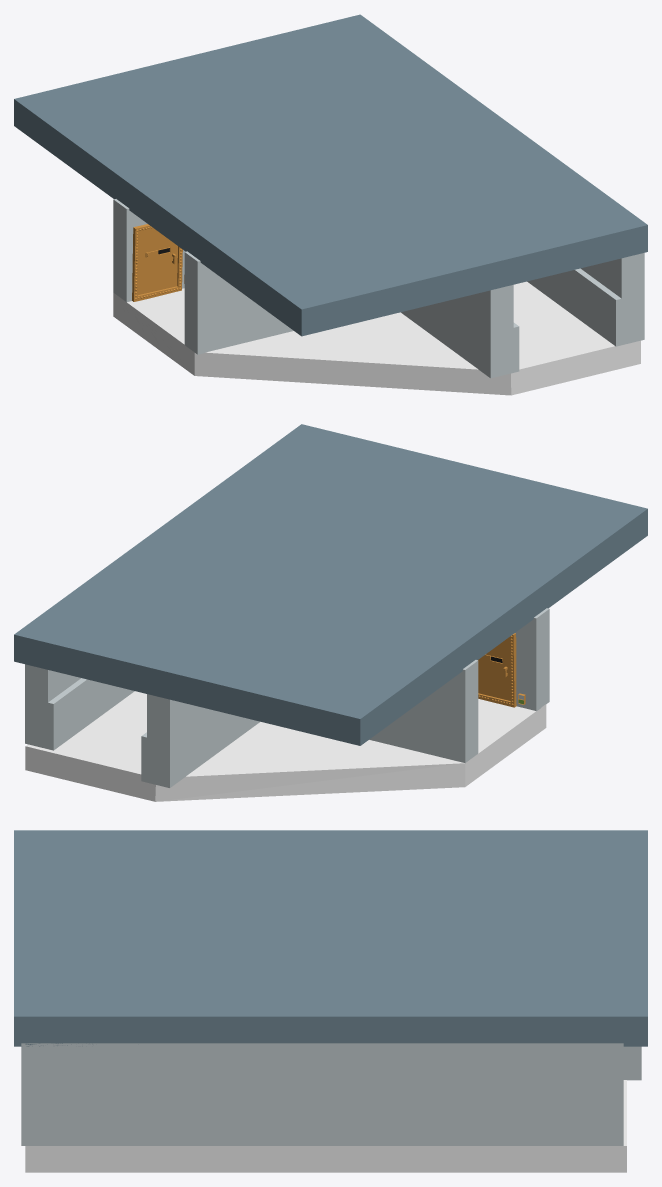
The model's file is env-hall.glb.
The picture shows the model from 3 angles, top to bottom: view 1: azimuth 30°, elevation 25°; view 2: azimuth 150°, elevation 25°; view 3: azimuth 270°, elevation 25°; orthographic projection. The views are drawn at different scales.
Visible parts, largest first — view 1: group2061198560, group1353342118, group809664500, group1100851702, group1034593818, group1995908569, group2092768178; view 2: group2061198560, group1353342118, group1607405056, group2092768178, group809664500, group1034593818, group1337425862; view 3: group2061198560, group809664500, group1353342118, group1607405056.
Boxes of the visible parts, x1,y1,x2,y2 form: group2061198560: (14, 14, 647, 336); group1353342118: (113, 281, 640, 395); group809664500: (527, 253, 644, 346); group1100851702: (401, 285, 519, 378); group1034593818: (184, 251, 293, 354); group1995908569: (132, 224, 184, 301); group2092768178: (113, 199, 185, 302); group2061198560: (14, 424, 647, 745); group1353342118: (25, 691, 546, 801); group1607405056: (141, 694, 260, 787); group2092768178: (369, 660, 478, 762); group809664500: (25, 664, 134, 750); group1034593818: (515, 608, 549, 711); group1337425862: (478, 633, 525, 707); group2061198560: (14, 830, 647, 1046); group809664500: (21, 1043, 623, 1145); group1353342118: (25, 1080, 626, 1172); group1607405056: (623, 1046, 641, 1080).
Bounding box in the file's own units: 3.69 × 1.44 × 5.27.
